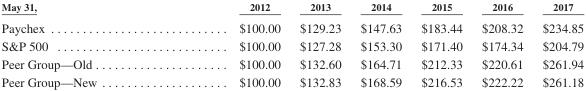table: (0, 0, 583, 88)
table column: (0, 0, 167, 88), (167, 0, 289, 88), (289, 0, 350, 88), (410, 0, 471, 88), (471, 0, 532, 88), (350, 0, 410, 88), (532, 0, 583, 88)
table column header: (0, 0, 583, 16)
table row: (0, 16, 583, 36), (0, 36, 583, 54), (0, 54, 583, 72), (0, 0, 583, 16), (0, 72, 583, 88)
